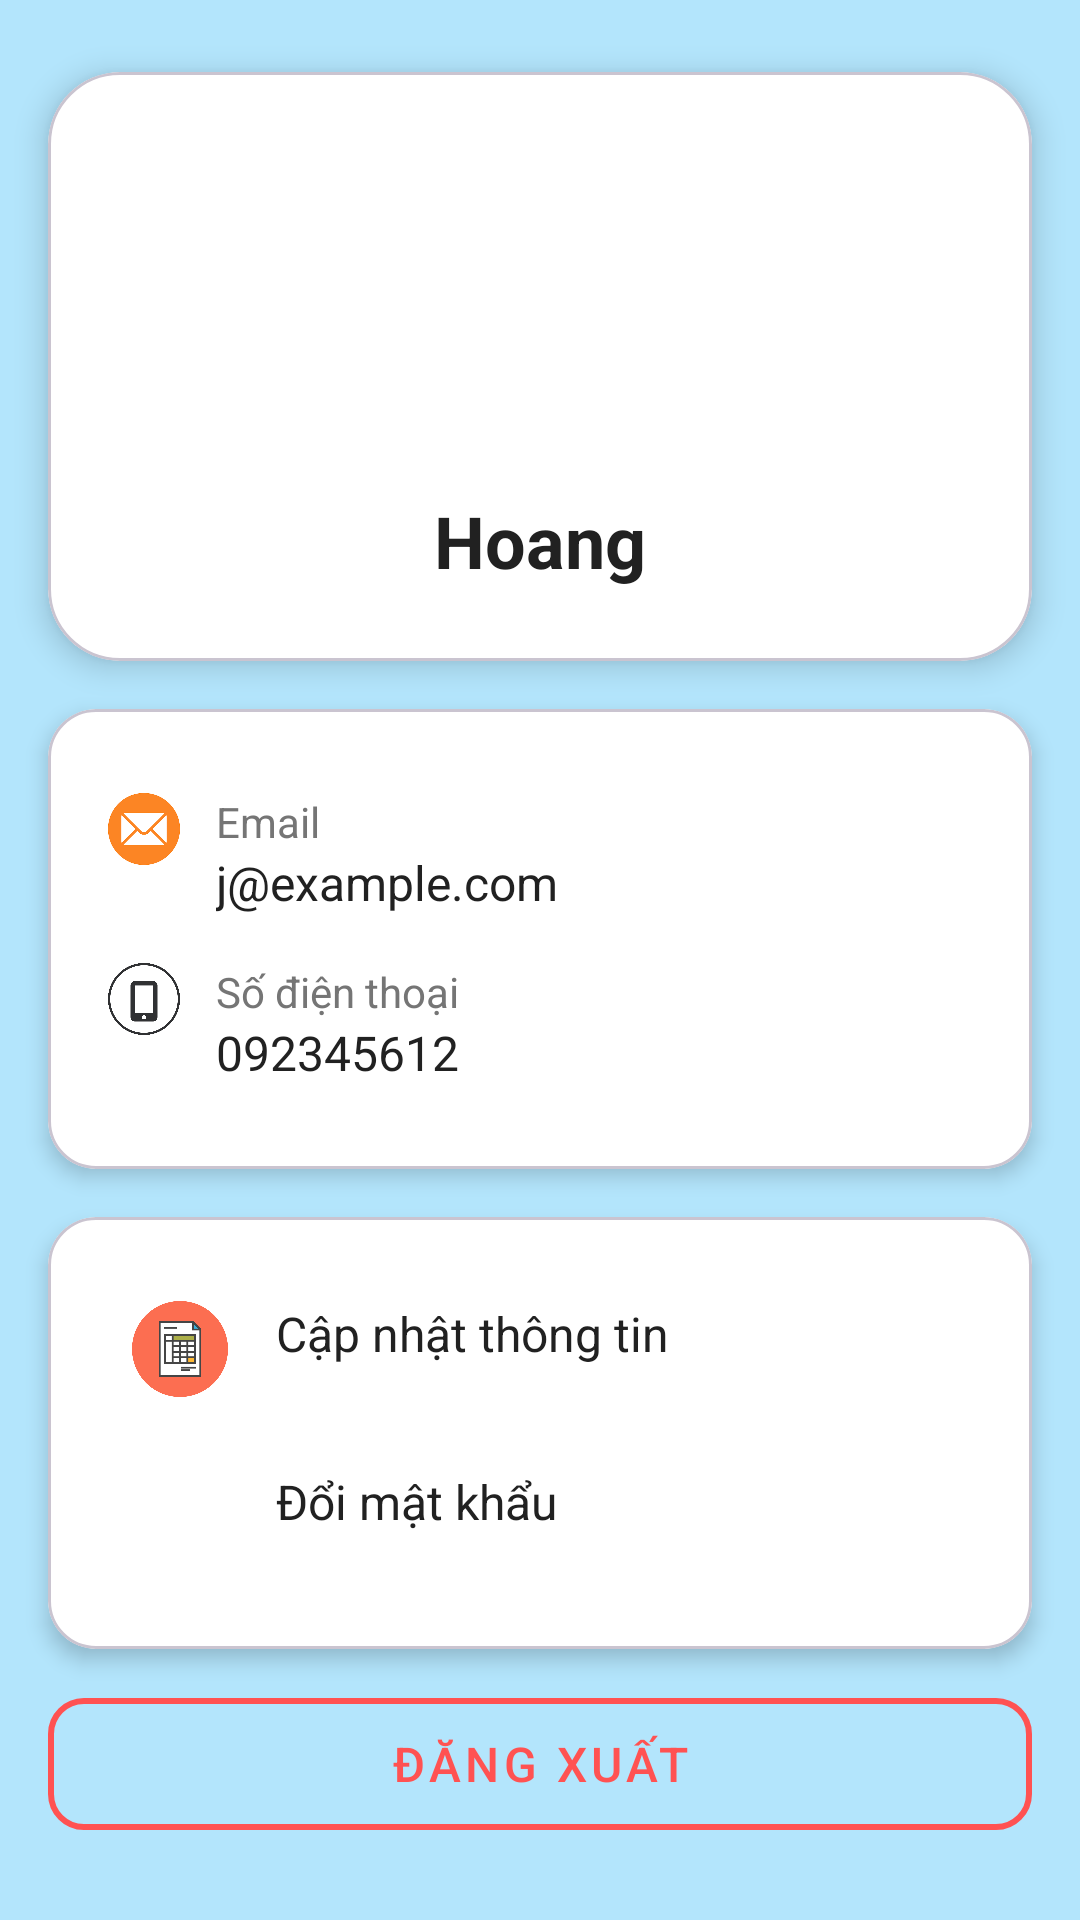

Icons on this 1080×1920 Android screen, each with the point to tap as (x=x, y=y):
Phone icon: (x=144, y=999)
